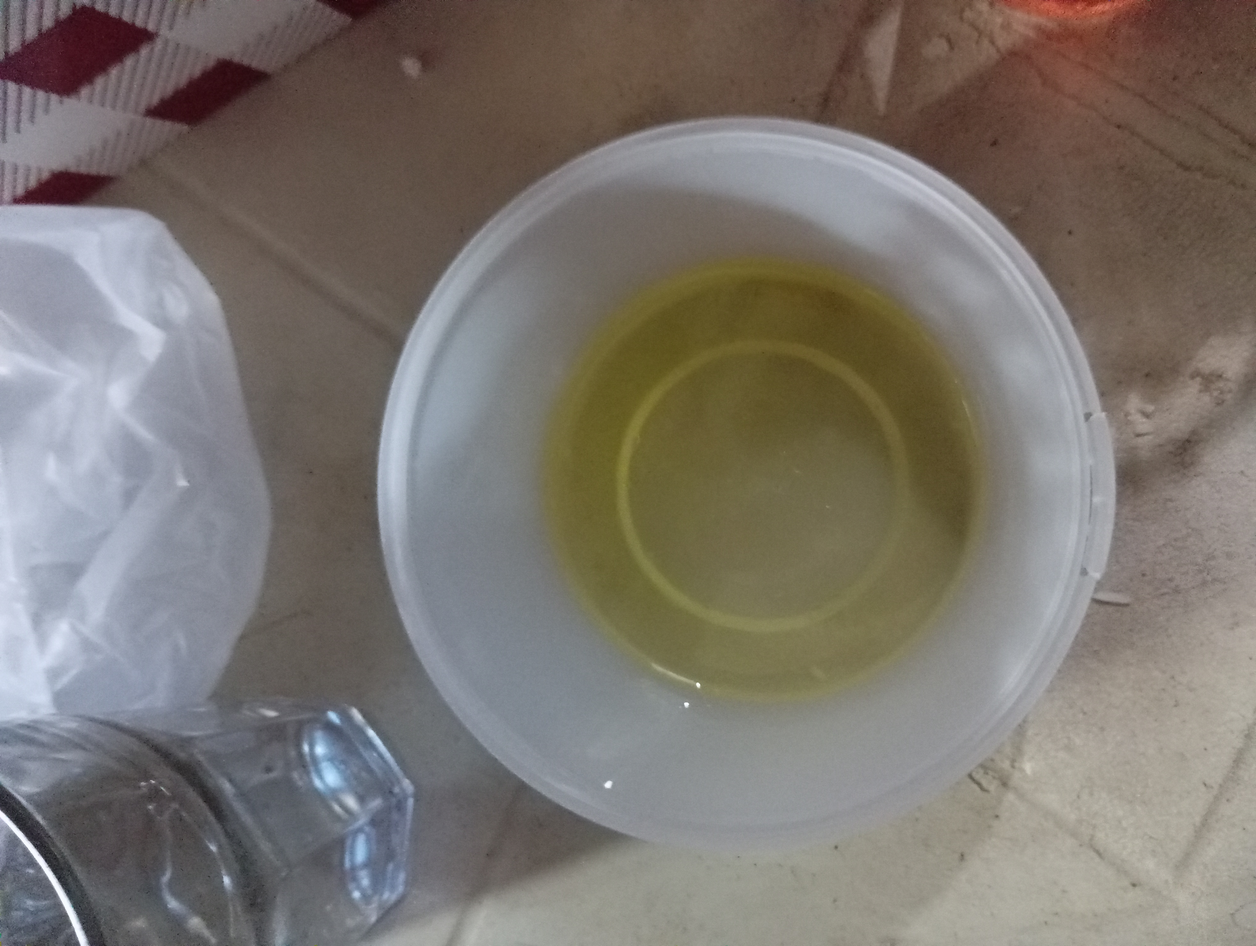reusable: (548, 261, 975, 699)
